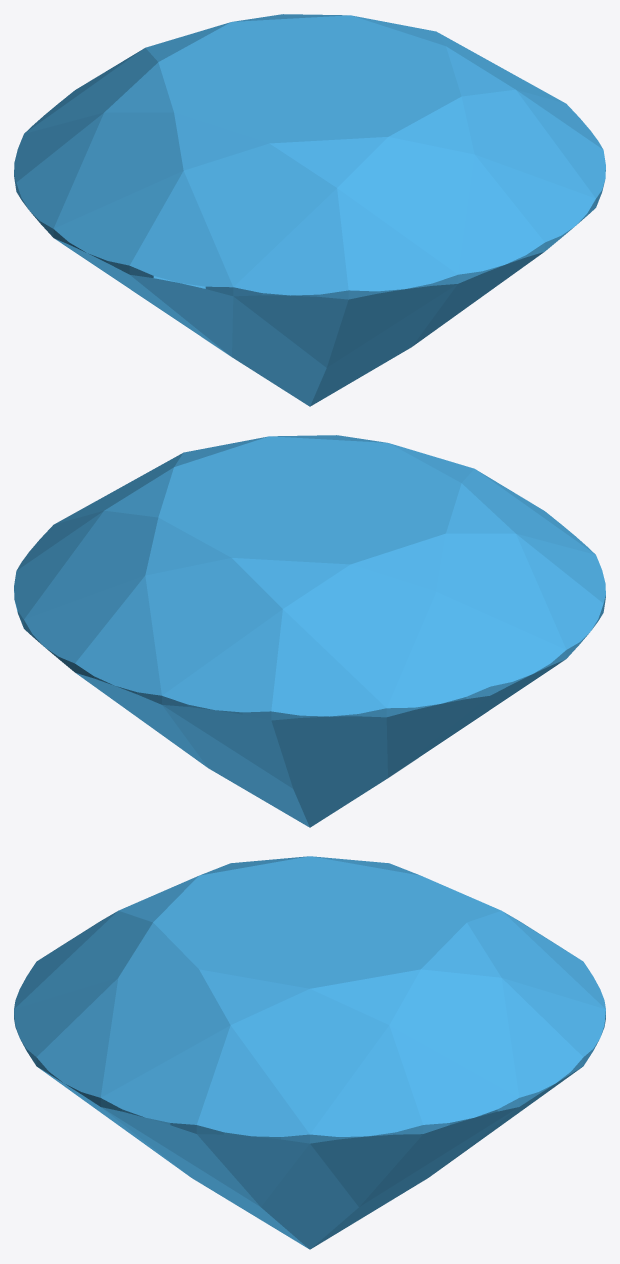
The model's file is Diamond_pieces.fbx.
The picture shows the model from 3 angles, top to bottom: view 1: azimuth 30°, elevation 25°; view 2: azimuth 150°, elevation 25°; view 3: azimuth 270°, elevation 25°; orthographic projection.
Parts seen in each view (by area): view 1: Diamond_piece_1, Diamond_piece_2; view 2: Diamond_piece_1, Diamond_piece_2; view 3: Diamond_piece_2, Diamond_piece_1.
Part boxes in pixels (x1,y1,x2,y2): Diamond_piece_1: [14, 22, 457, 406]; Diamond_piece_2: [232, 14, 605, 406]; Diamond_piece_1: [162, 443, 605, 827]; Diamond_piece_2: [14, 435, 387, 827]; Diamond_piece_2: [14, 922, 605, 1249]; Diamond_piece_1: [14, 856, 605, 1124].
Size of the model in its own units: 600 by 366 by 600.
